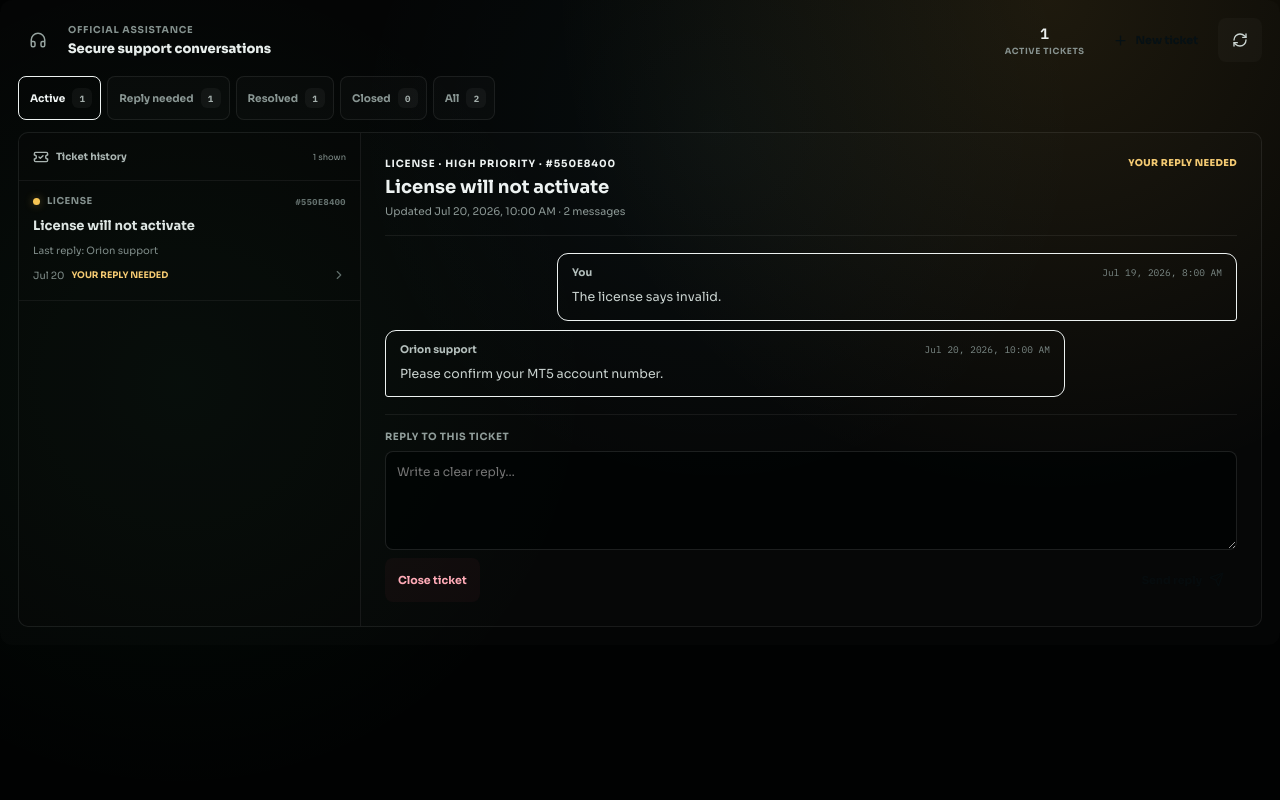
Scenario: Support Ticket Center › forces the client-portal scope, reports active tickets, and uses client-friendly statuses
Expected: the heading "License will not activate" is shown, [385,176,625,199]
Expected: the text "Your reply needed" below "Ticket history" is shown, [71,269,168,281]
Click the button "Resolved 1" at coordinates (285, 98), box [236,76,334,120]
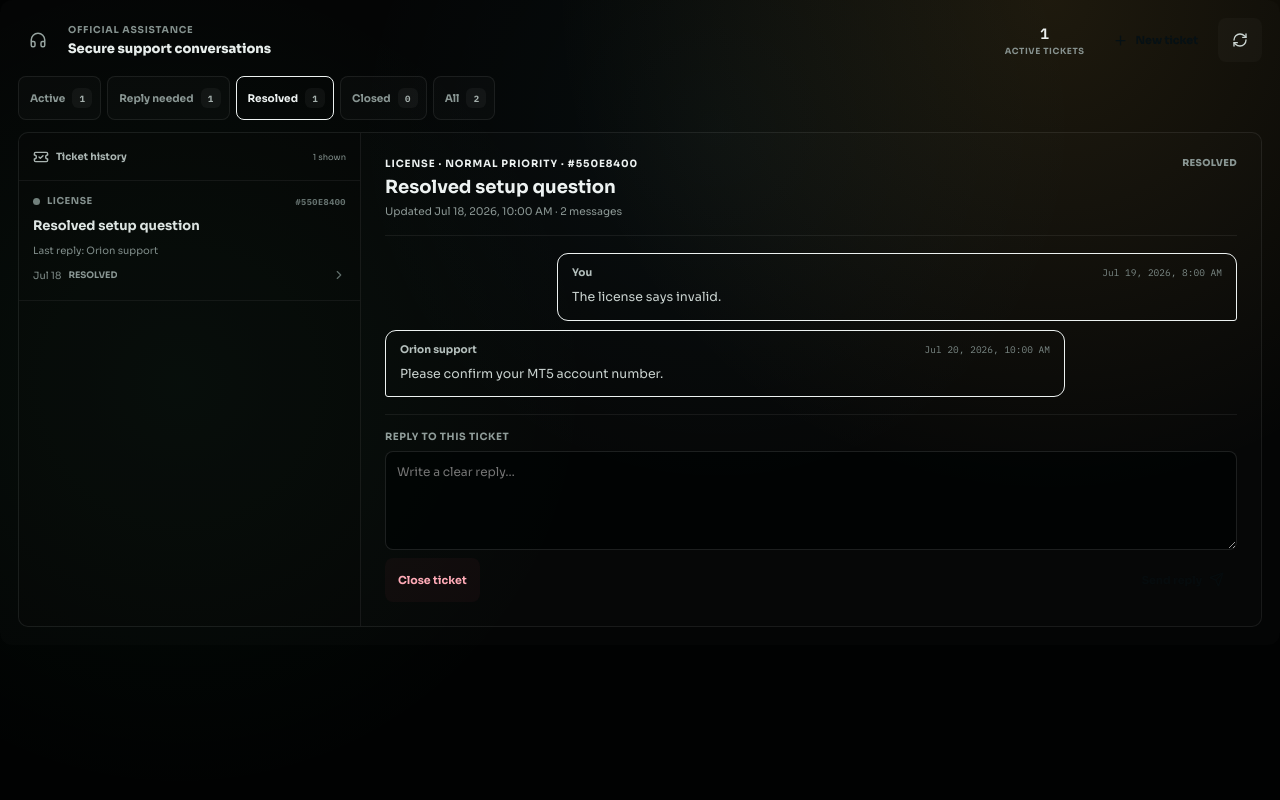
Expected: the heading "Resolved setup question" is shown, [385,176,638,199]
Expected: the button "License will not activate" is gone
